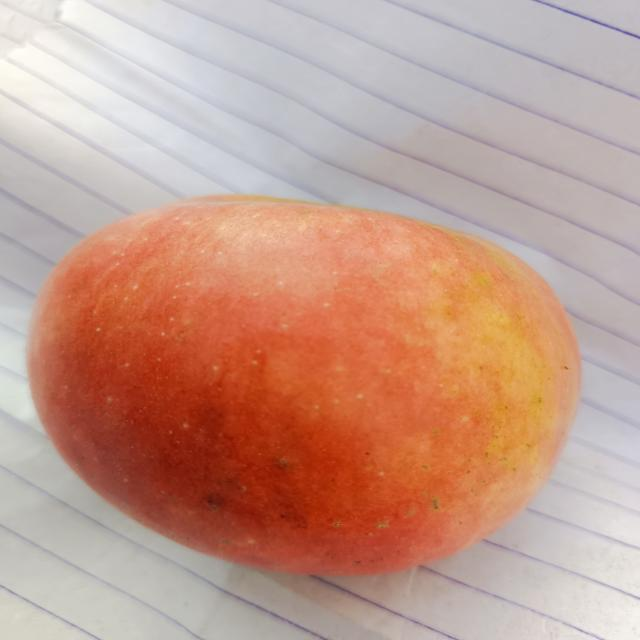Fresh Apple: (30, 186, 583, 572)
